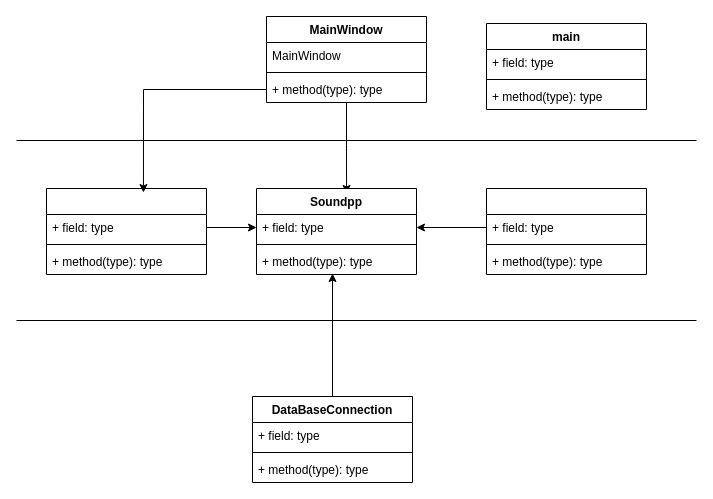
This 713x499 diagram has some shape labels left out. The box of each missing label's shape, as (x1, y1, x2, y2) in pixels:
DataModel: (46, 188, 206, 274)
MediaPlayer: (486, 188, 646, 274)
